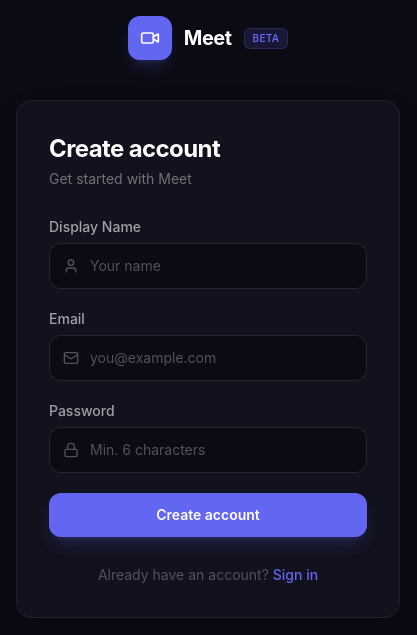
Test case: Register › shows loading state during submission
In the field with placeholder "Your name": (208, 266) x1=49 y1=243 x2=367 y2=289, type "Bob"
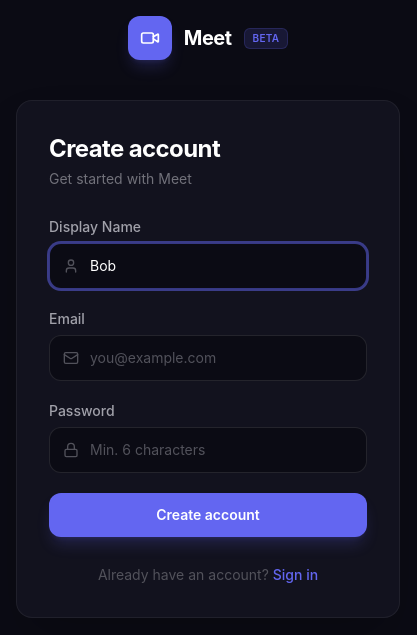
In the field with placeholder "you@example.com": (208, 358) x1=49 y1=335 x2=367 y2=381, type "b@c.com"
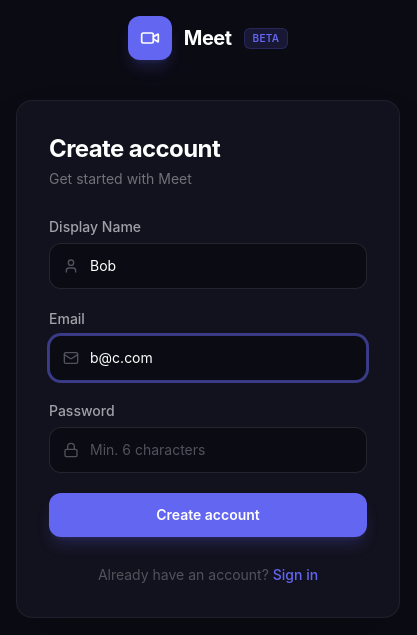
In the password field with placeholder "Min. 6 characters": (208, 450) x1=49 y1=427 x2=367 y2=473, type "password123"
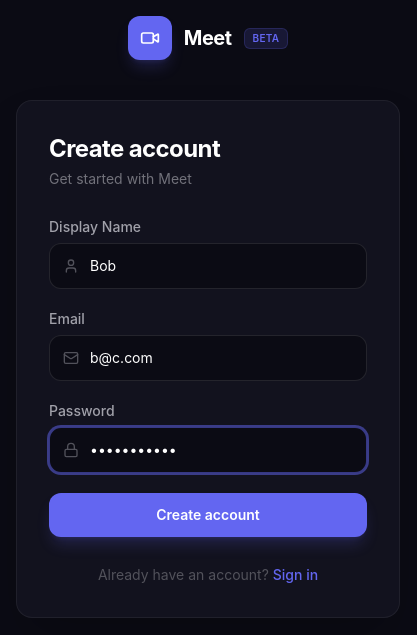
Click the button "Create account": (208, 515) x1=49 y1=493 x2=367 y2=537
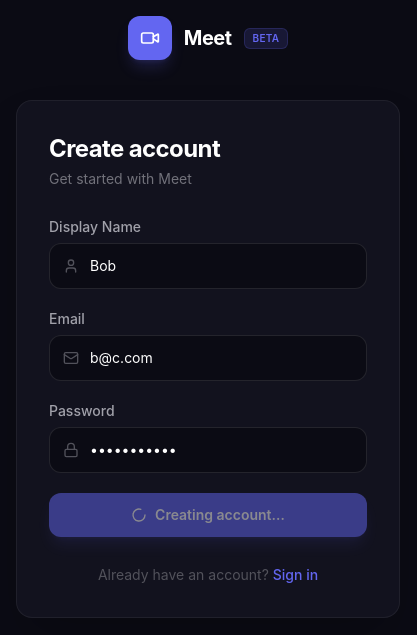
expect the button "Creating account…" is disabled: met, box x1=49 y1=493 x2=367 y2=537
